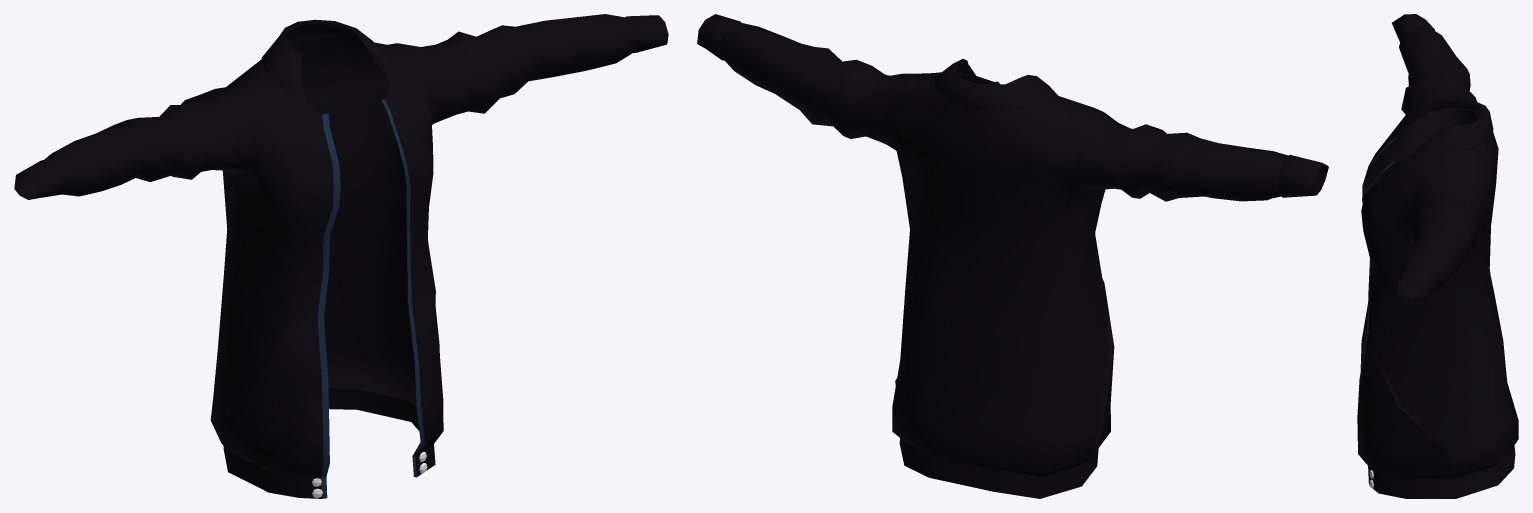
Rendered from Jacket_G.fbx.
The picture shows the model from 3 angles, left to right: view 1: azimuth 30°, elevation 25°; view 2: azimuth 150°, elevation 25°; view 3: azimuth 270°, elevation 25°; orthographic projection. The views are drawn at different scales.
Parts seen in each view (by area): view 1: Jacket_G; view 2: Jacket_G; view 3: Jacket_G.
Part boxes in pixels (x1,y1,x2,y2): Jacket_G: [14, 14, 668, 498]; Jacket_G: [697, 14, 1328, 498]; Jacket_G: [1357, 14, 1518, 498].
Bounding box in the file's own units: 146 × 90.01 × 37.12.
